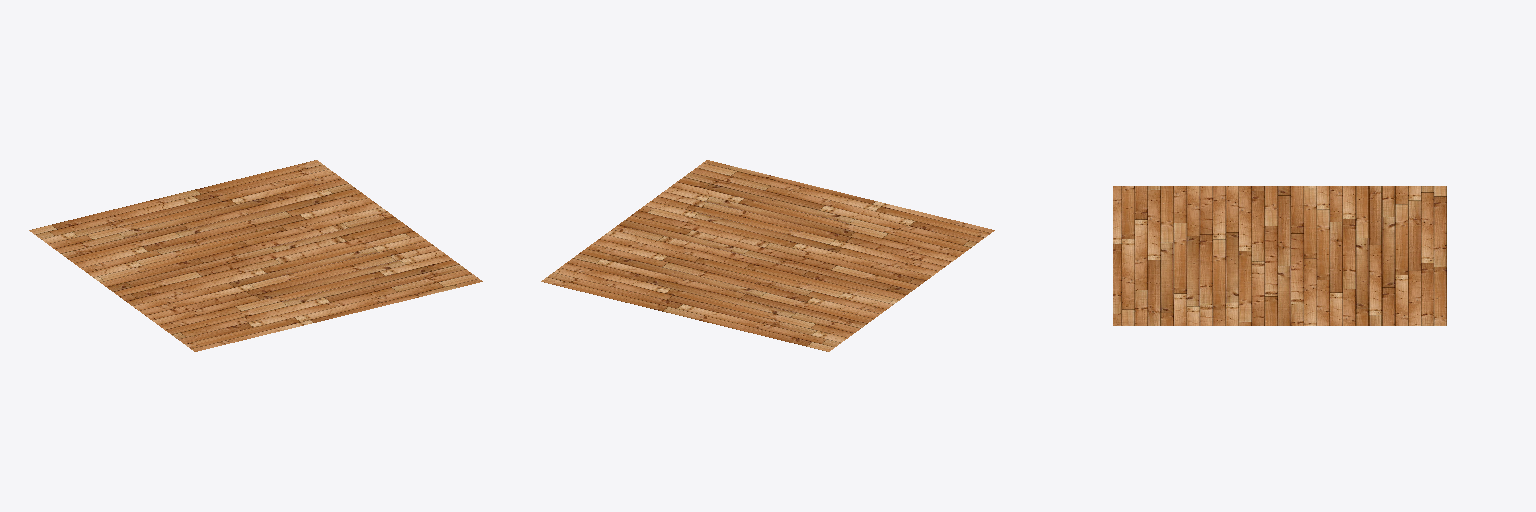
3 renders of one model, left to right at view 1: azimuth 30°, elevation 25°; view 2: azimuth 150°, elevation 25°; view 3: azimuth 270°, elevation 25°, orthographic.
Parts seen in each view (by area): view 1: Plane001; view 2: Plane001; view 3: Plane001.
Part boxes in pixels (x1,y1,x2,y2): Plane001: (29,160,482,351); Plane001: (541,160,994,351); Plane001: (1113,186,1446,325).
Size of the model in its own units: 2 by 0 by 2.
Materials: 1 (1 with a texture image).